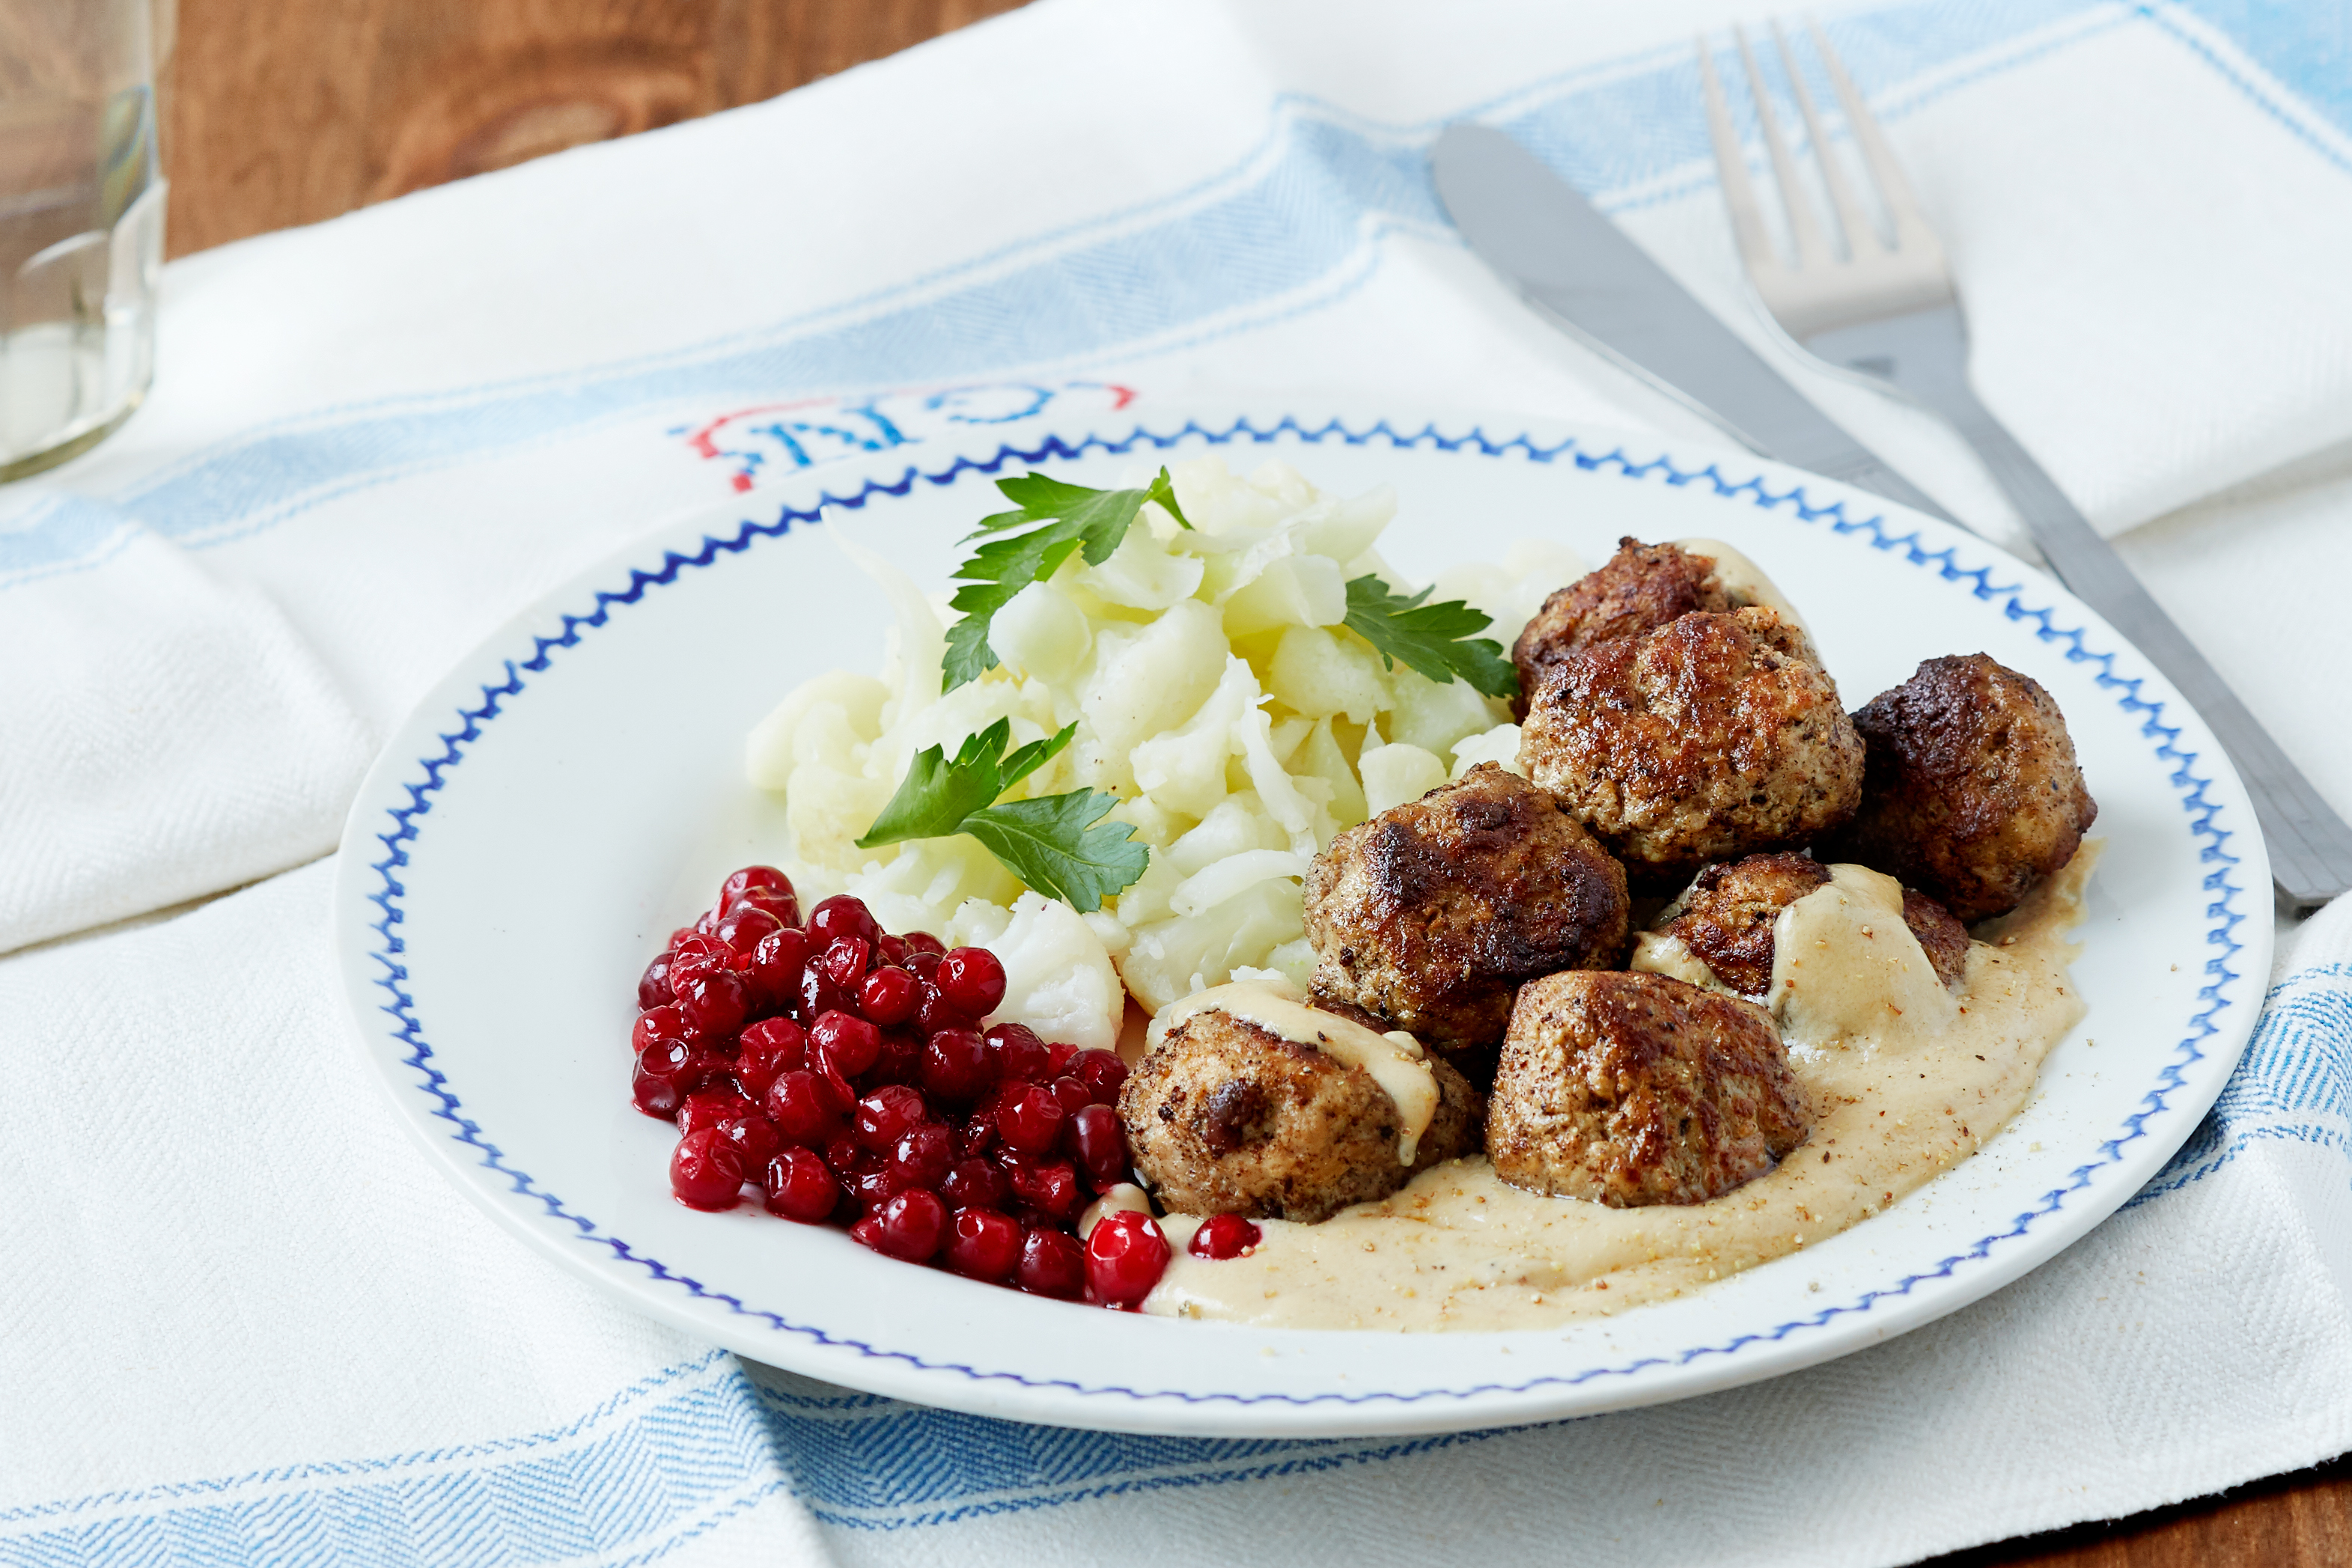meatballs: (1332, 772, 1774, 1200), (1487, 534, 1830, 859)
